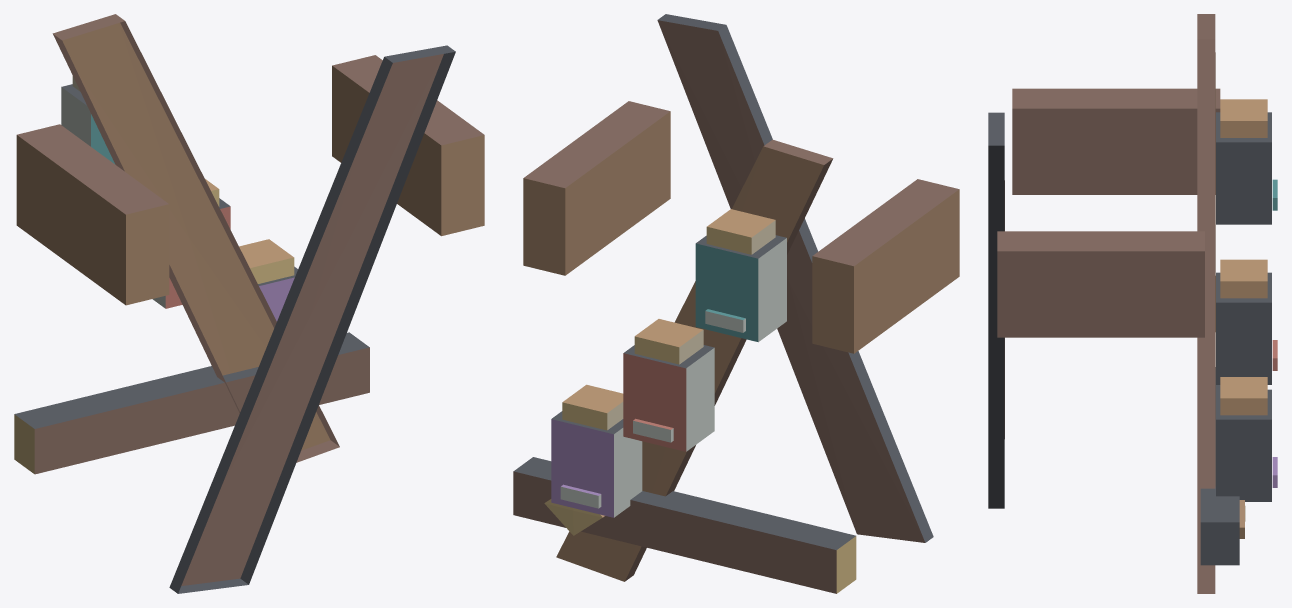
The model's file is alchemist_bandolier.glb.
The picture shows the model from 3 angles, left to right: view 1: azimuth 30°, elevation 25°; view 2: azimuth 150°, elevation 25°; view 3: azimuth 270°, elevation 25°; orthographic projection. The views are drawn at different scales.
Visible parts, largest first — view 1: body; view 2: body; view 3: body.
Part boxes in pixels (x1,y1,x2,y2): body: (14,14,484,593); body: (513,14,959,593); body: (988,14,1277,593).
Bounding box in the file's own units: 8.9 × 11.8 × 6.69.
